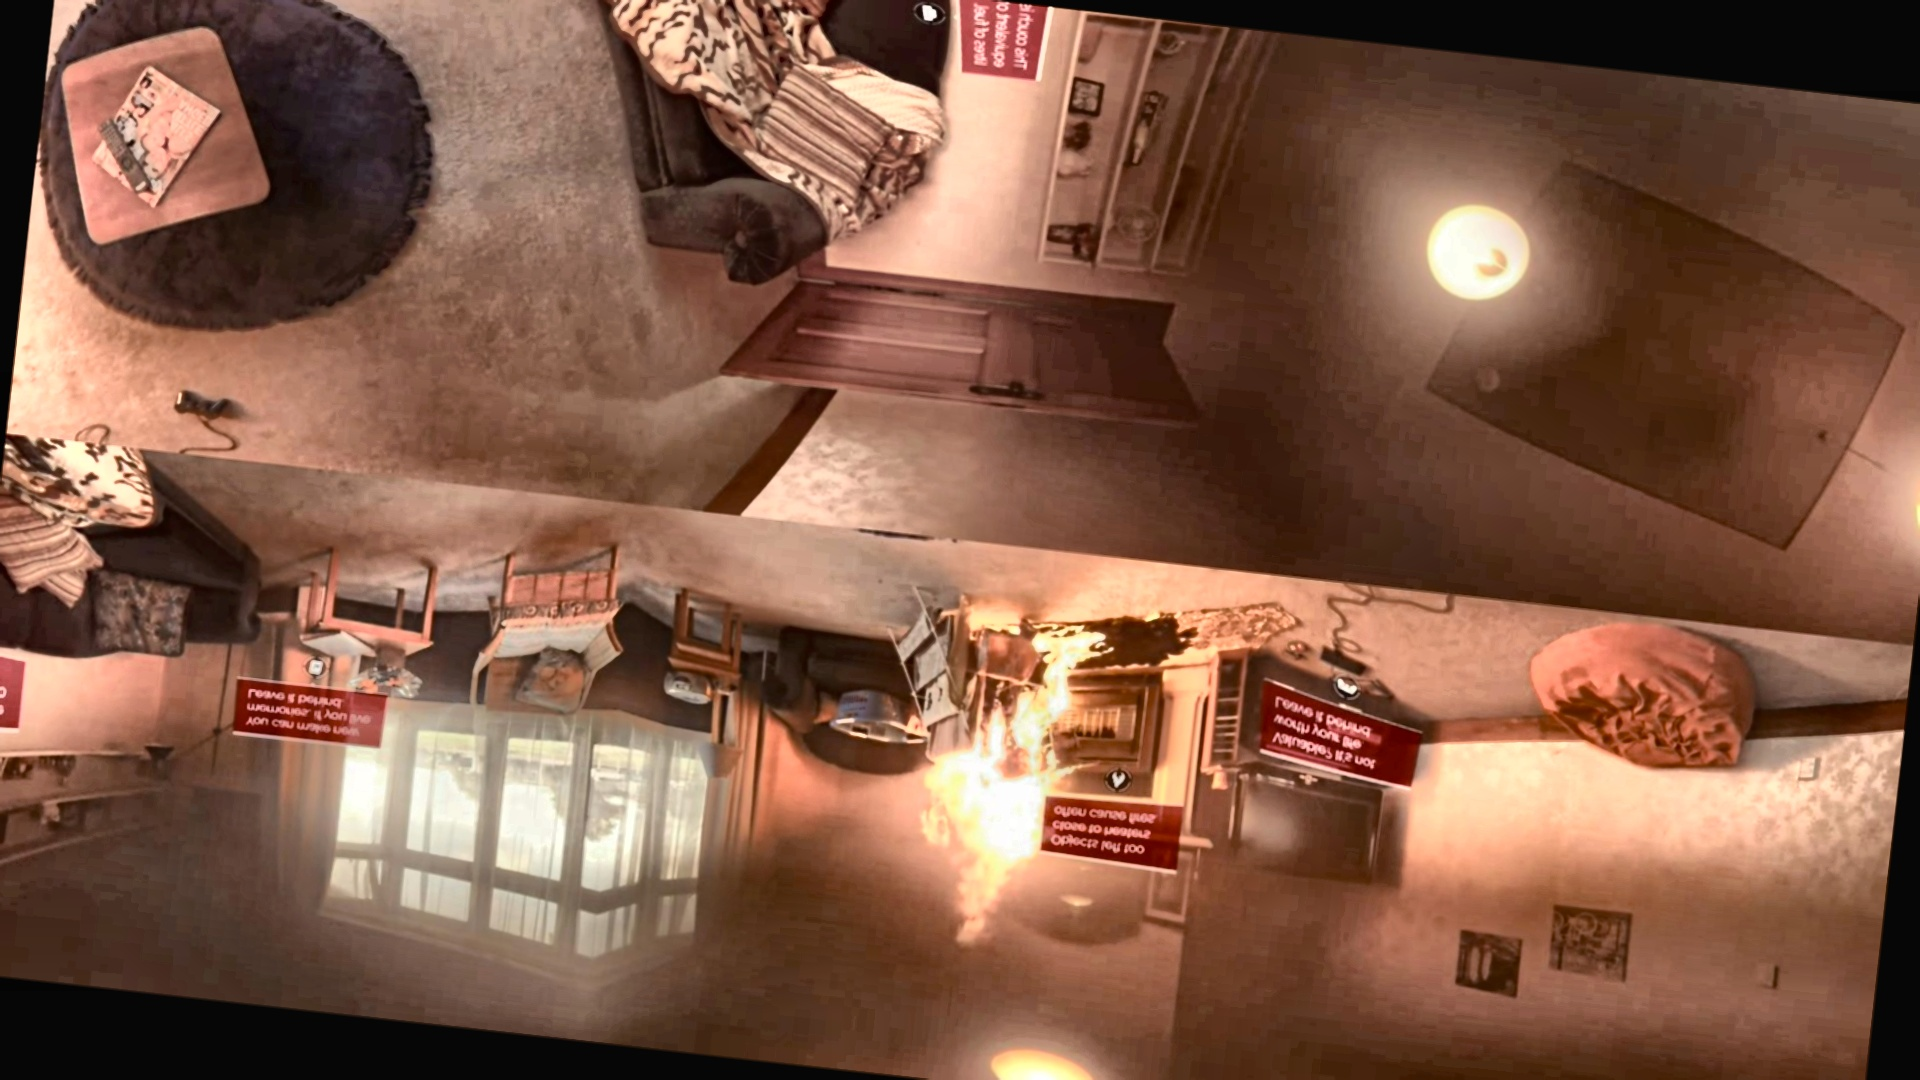fire: (891, 630, 1124, 973)
